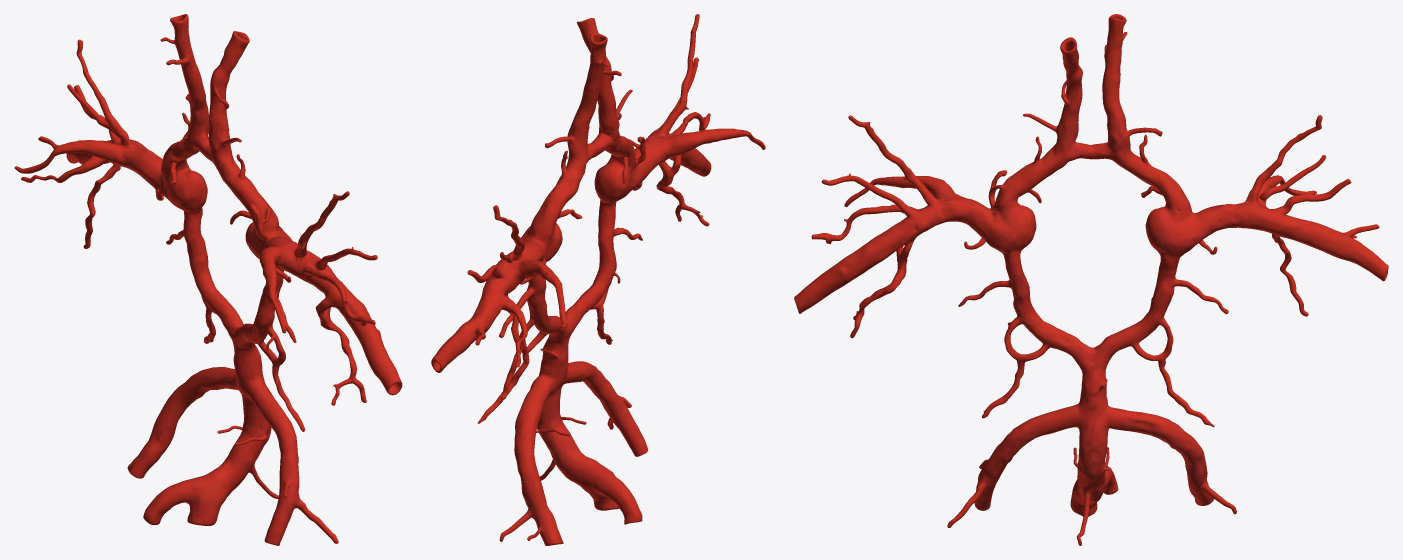
Rendered from circle-of-willis.glb.
The picture shows the model from 3 angles, left to right: view 1: azimuth 30°, elevation 25°; view 2: azimuth 150°, elevation 25°; view 3: azimuth 270°, elevation 25°; orthographic projection. The views are drawn at different scales.
Parts seen in each view (by area): view 1: tripo_node_74181a44-dd81-4cd0-b836-ebd1c30b59cd; view 2: tripo_node_74181a44-dd81-4cd0-b836-ebd1c30b59cd; view 3: tripo_node_74181a44-dd81-4cd0-b836-ebd1c30b59cd.
Boxes of the visible parts, left/top/right/bottom form: tripo_node_74181a44-dd81-4cd0-b836-ebd1c30b59cd: left=14, top=14, right=402, bottom=545; tripo_node_74181a44-dd81-4cd0-b836-ebd1c30b59cd: left=431, top=14, right=765, bottom=545; tripo_node_74181a44-dd81-4cd0-b836-ebd1c30b59cd: left=794, top=14, right=1388, bottom=545.
Size of the model in its own units: 0.2926 by 0.9156 by 0.9999.
1 material, 1 textured.
